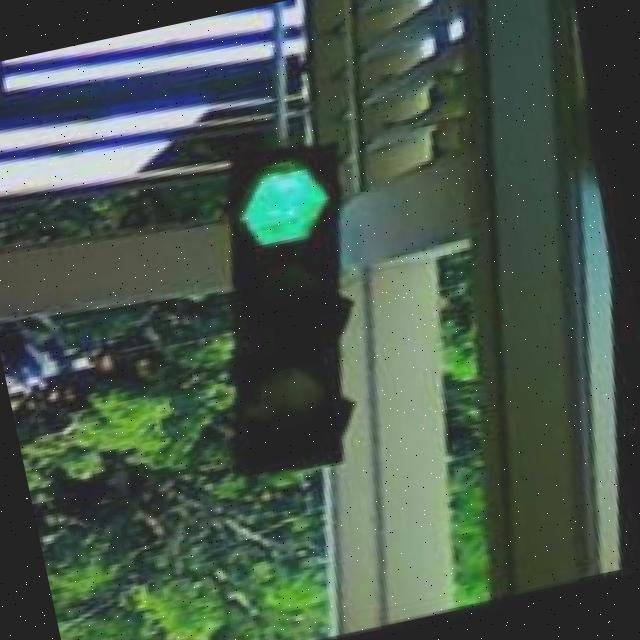green_light: (175, 132, 406, 490)
